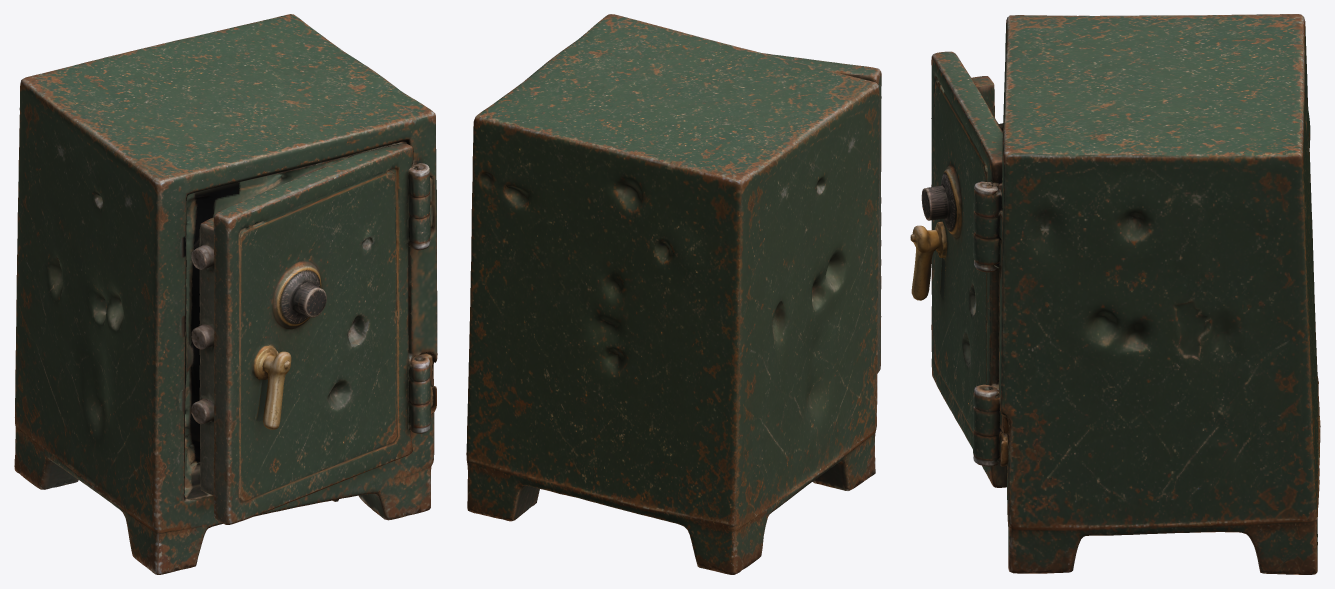
The model's file is Safe.fbx.
The picture shows the model from 3 angles, left to right: view 1: azimuth 30°, elevation 25°; view 2: azimuth 150°, elevation 25°; view 3: azimuth 270°, elevation 25°; orthographic projection. The views are drawn at different scales.
Visible parts, largest first — view 1: texture_mapping; view 2: texture_mapping; view 3: texture_mapping.
Boxes of the visible parts, x1,y1,x2,y2 form: texture_mapping: (14, 14, 437, 574); texture_mapping: (466, 14, 881, 574); texture_mapping: (910, 14, 1320, 574).
Bounding box in the file's own units: 0.7356 × 0.8808 × 1.
Materials: 1 (1 with a texture image).
